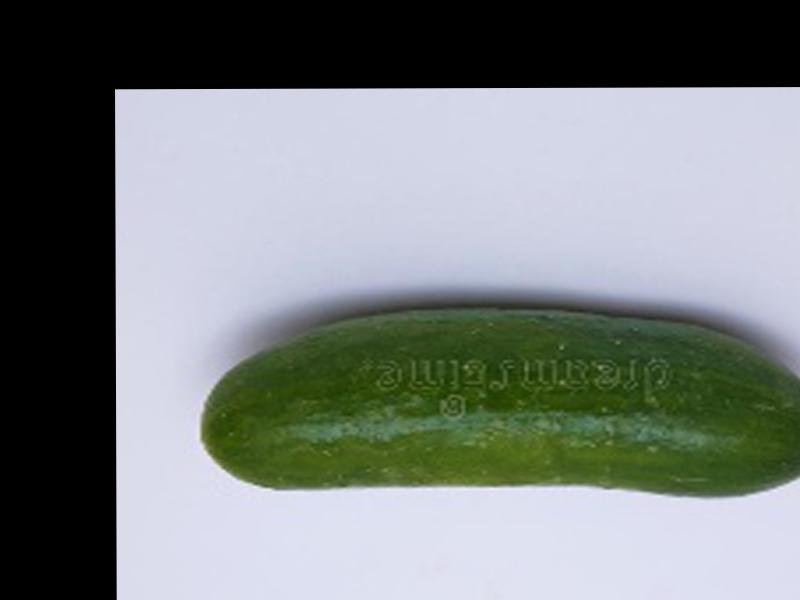Cucumber: (199, 305, 800, 498)
